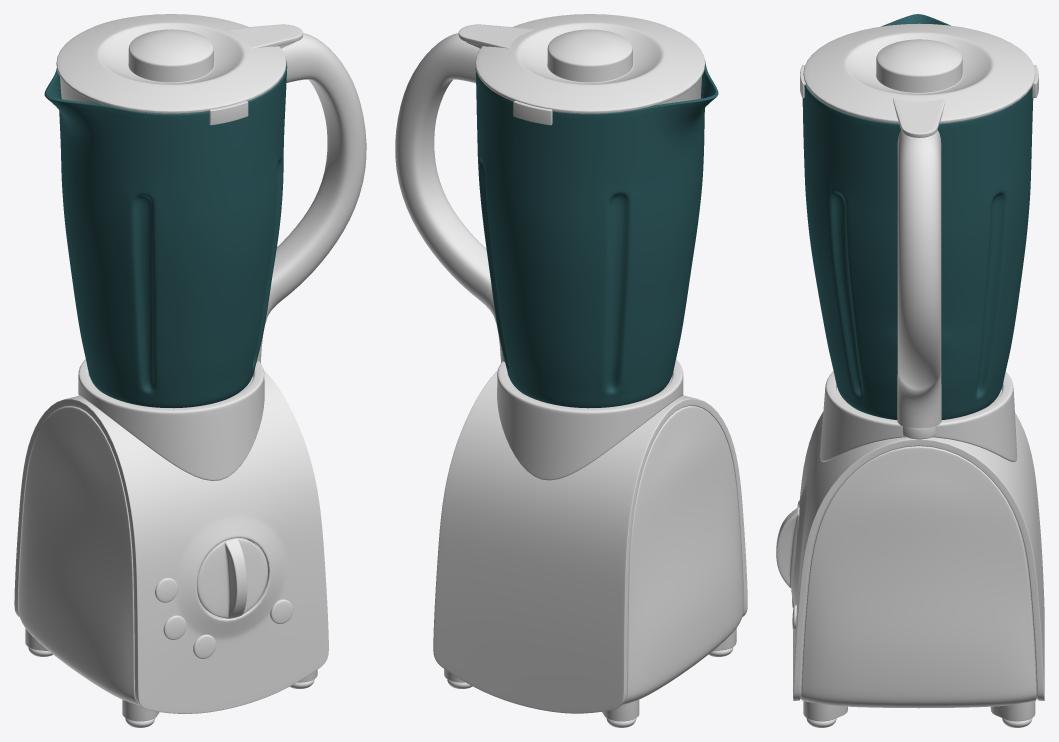
File: juicer.FBX
The picture shows the model from 3 angles, left to right: view 1: azimuth 30°, elevation 25°; view 2: azimuth 150°, elevation 25°; view 3: azimuth 270°, elevation 25°; orthographic projection.
Parts seen in each view (by area): view 1: archmodels82_046_002, archmodels82_046_003, archmodels82_046_001; view 2: archmodels82_046_002, archmodels82_046_003, archmodels82_046_001; view 3: archmodels82_046_002, archmodels82_046_003, archmodels82_046_001.
Boxes of the visible parts, x1=… form: archmodels82_046_002: x1=18, y1=14, x2=366, y2=727; archmodels82_046_003: x1=44, y1=60, x2=287, y2=407; archmodels82_046_001: x1=14, y1=370, x2=328, y2=713; archmodels82_046_002: x1=395, y1=14, x2=743, y2=727; archmodels82_046_003: x1=475, y1=61, x2=718, y2=408; archmodels82_046_001: x1=433, y1=370, x2=747, y2=713; archmodels82_046_002: x1=800, y1=23, x2=1038, y2=727; archmodels82_046_003: x1=802, y1=14, x2=1033, y2=419; archmodels82_046_001: x1=776, y1=412, x2=1044, y2=700.
Size of the model in its own units: 223 by 423 by 162.
